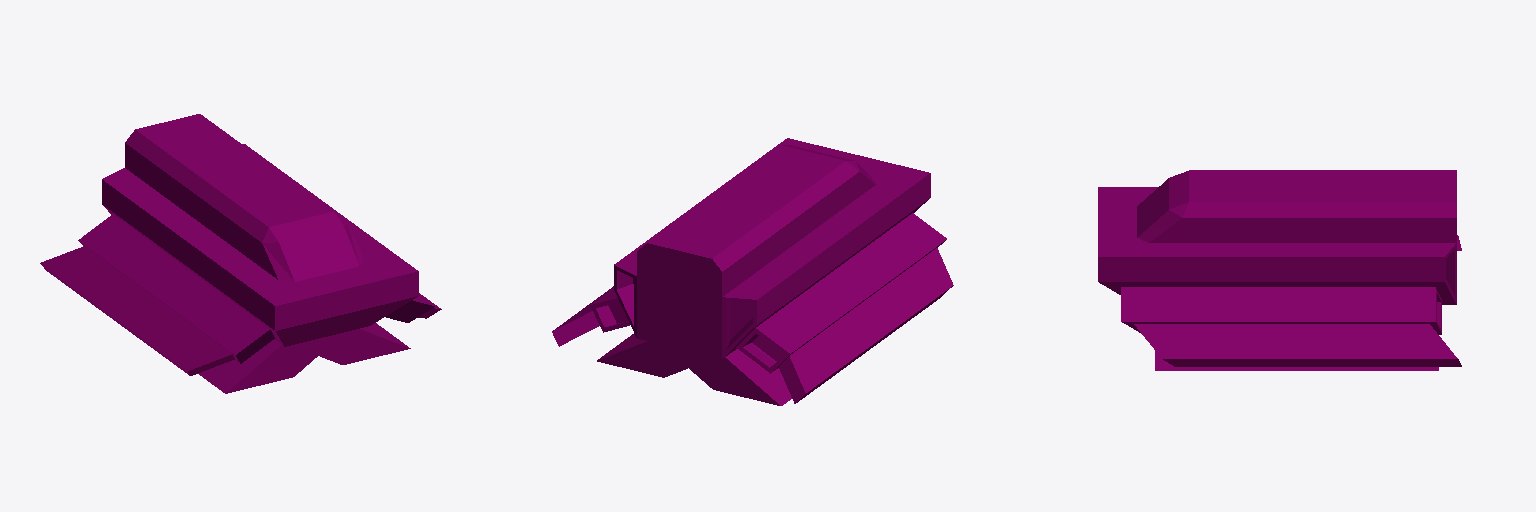
File: FedTransport.obj
3 views of the same model, side by side, from view 1: azimuth 30°, elevation 25°; view 2: azimuth 150°, elevation 25°; view 3: azimuth 270°, elevation 25° (orthographic).
Visible parts, largest first — view 1: FedTransport; view 2: FedTransport; view 3: FedTransport.
Part boxes in pixels (left/top/right/bottom): FedTransport: left=40, top=114, right=441, bottom=393; FedTransport: left=552, top=138, right=953, bottom=405; FedTransport: left=1098, top=170, right=1461, bottom=370.
Bounding box in the file's own units: 482 × 253 × 598.